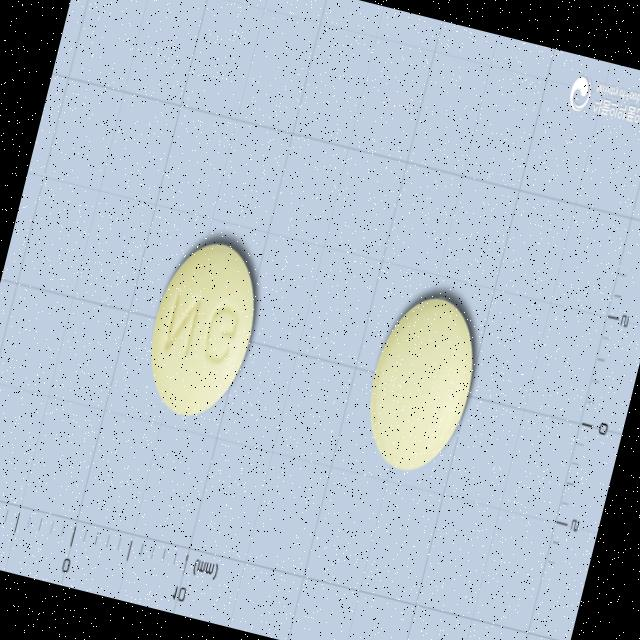Nevolaxin Tablet: (134, 229, 272, 426), (354, 286, 491, 482)
